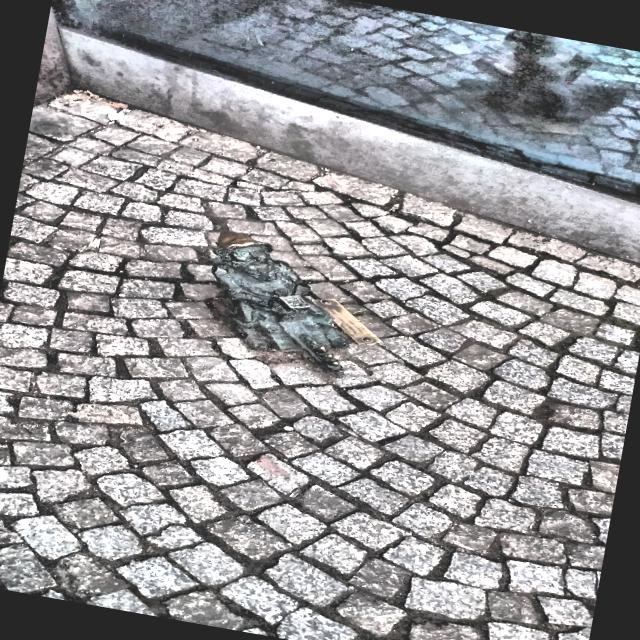Automatek: (213, 231, 347, 377)
